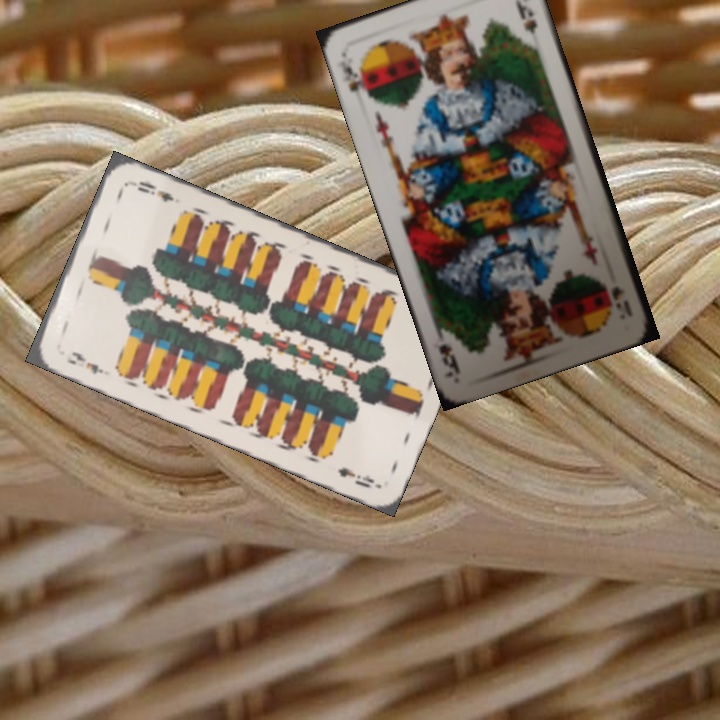E9: (62, 347, 107, 377)
SK: (338, 61, 374, 101), (607, 282, 635, 320)
